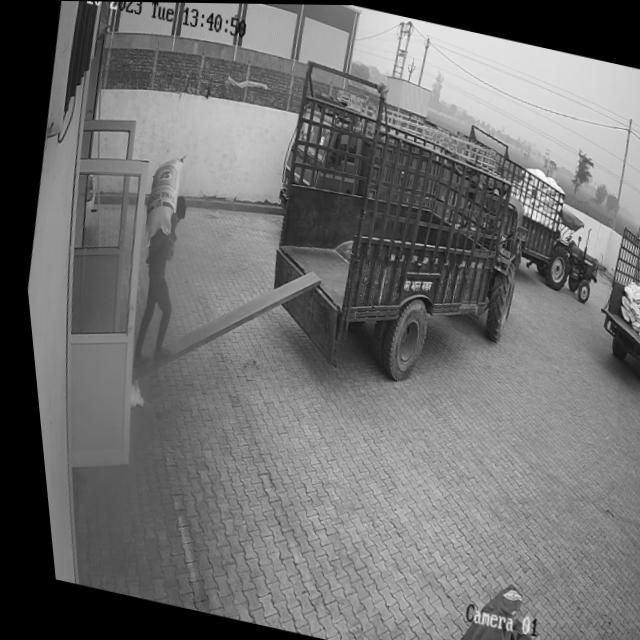sack: (130, 147, 188, 248)
